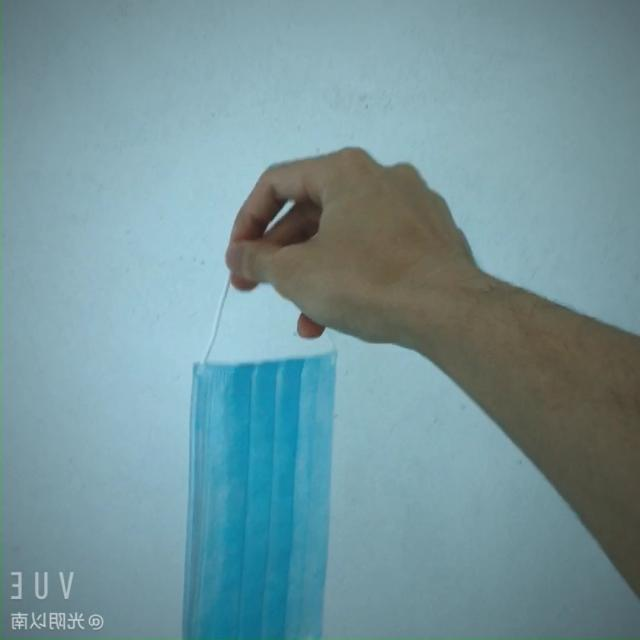face mask: (179, 335, 365, 633)
